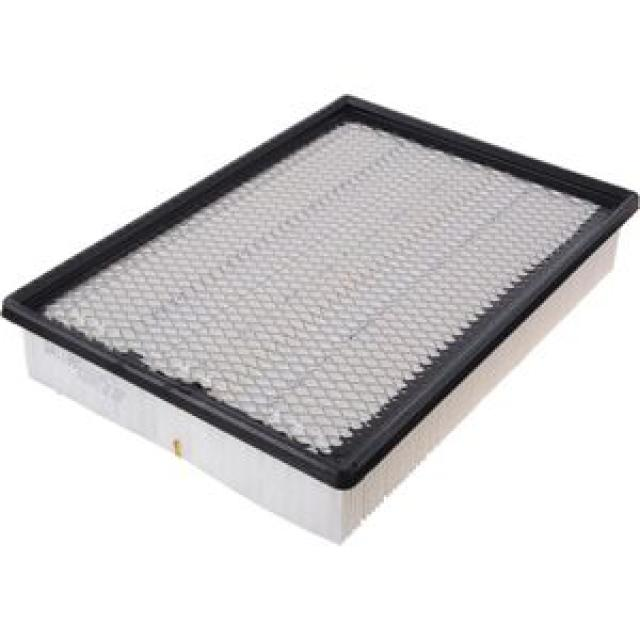air_filter: (2, 90, 630, 496)
